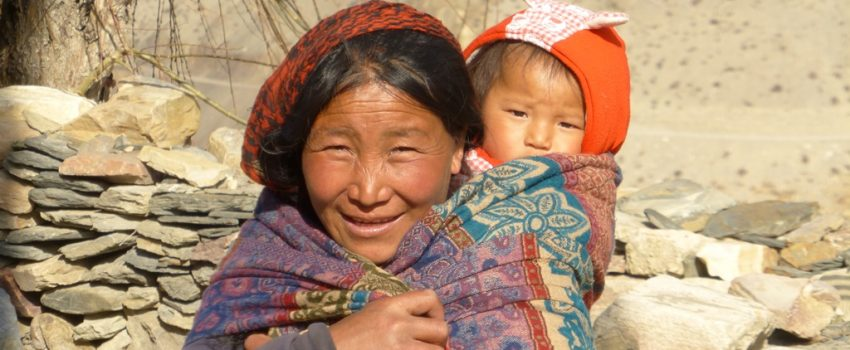human: (177, 3, 640, 350), (452, 2, 656, 184)
